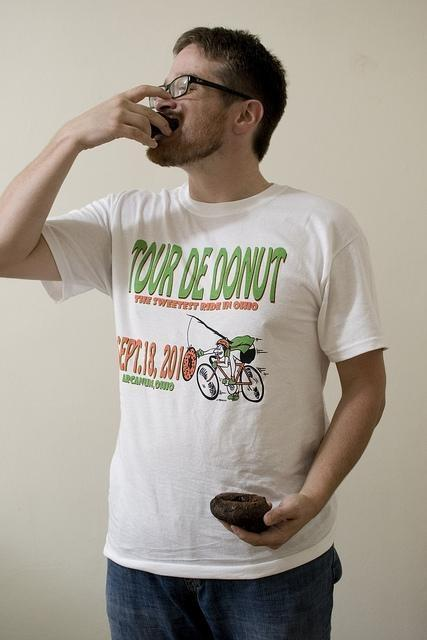bicycle: (199, 356, 264, 402)
